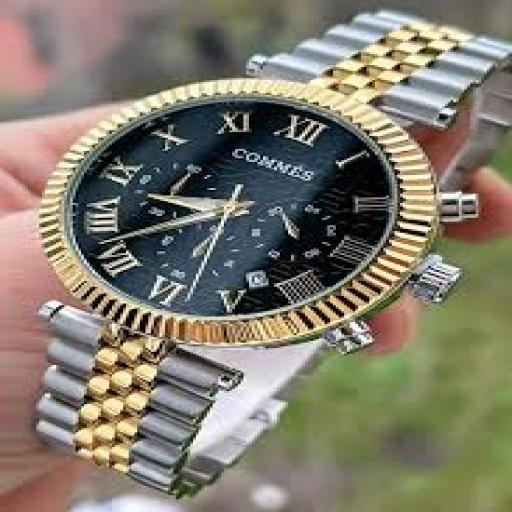KolSaati: (3, 2, 490, 498)
